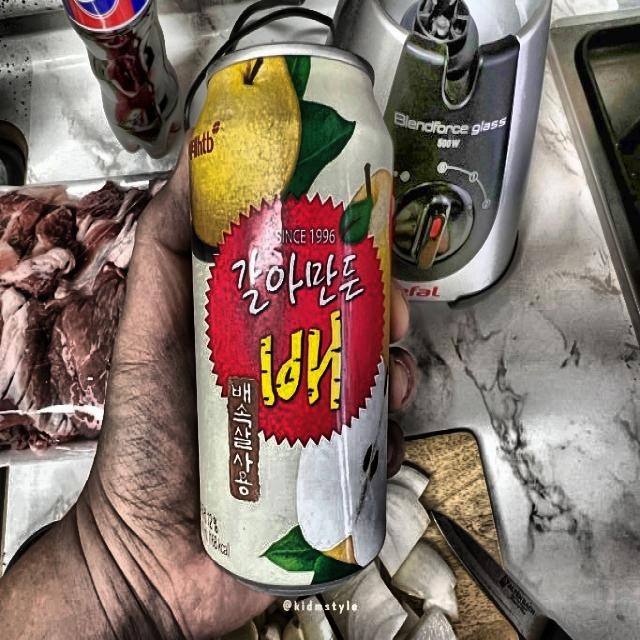galamandeunbae: (190, 48, 392, 587)
